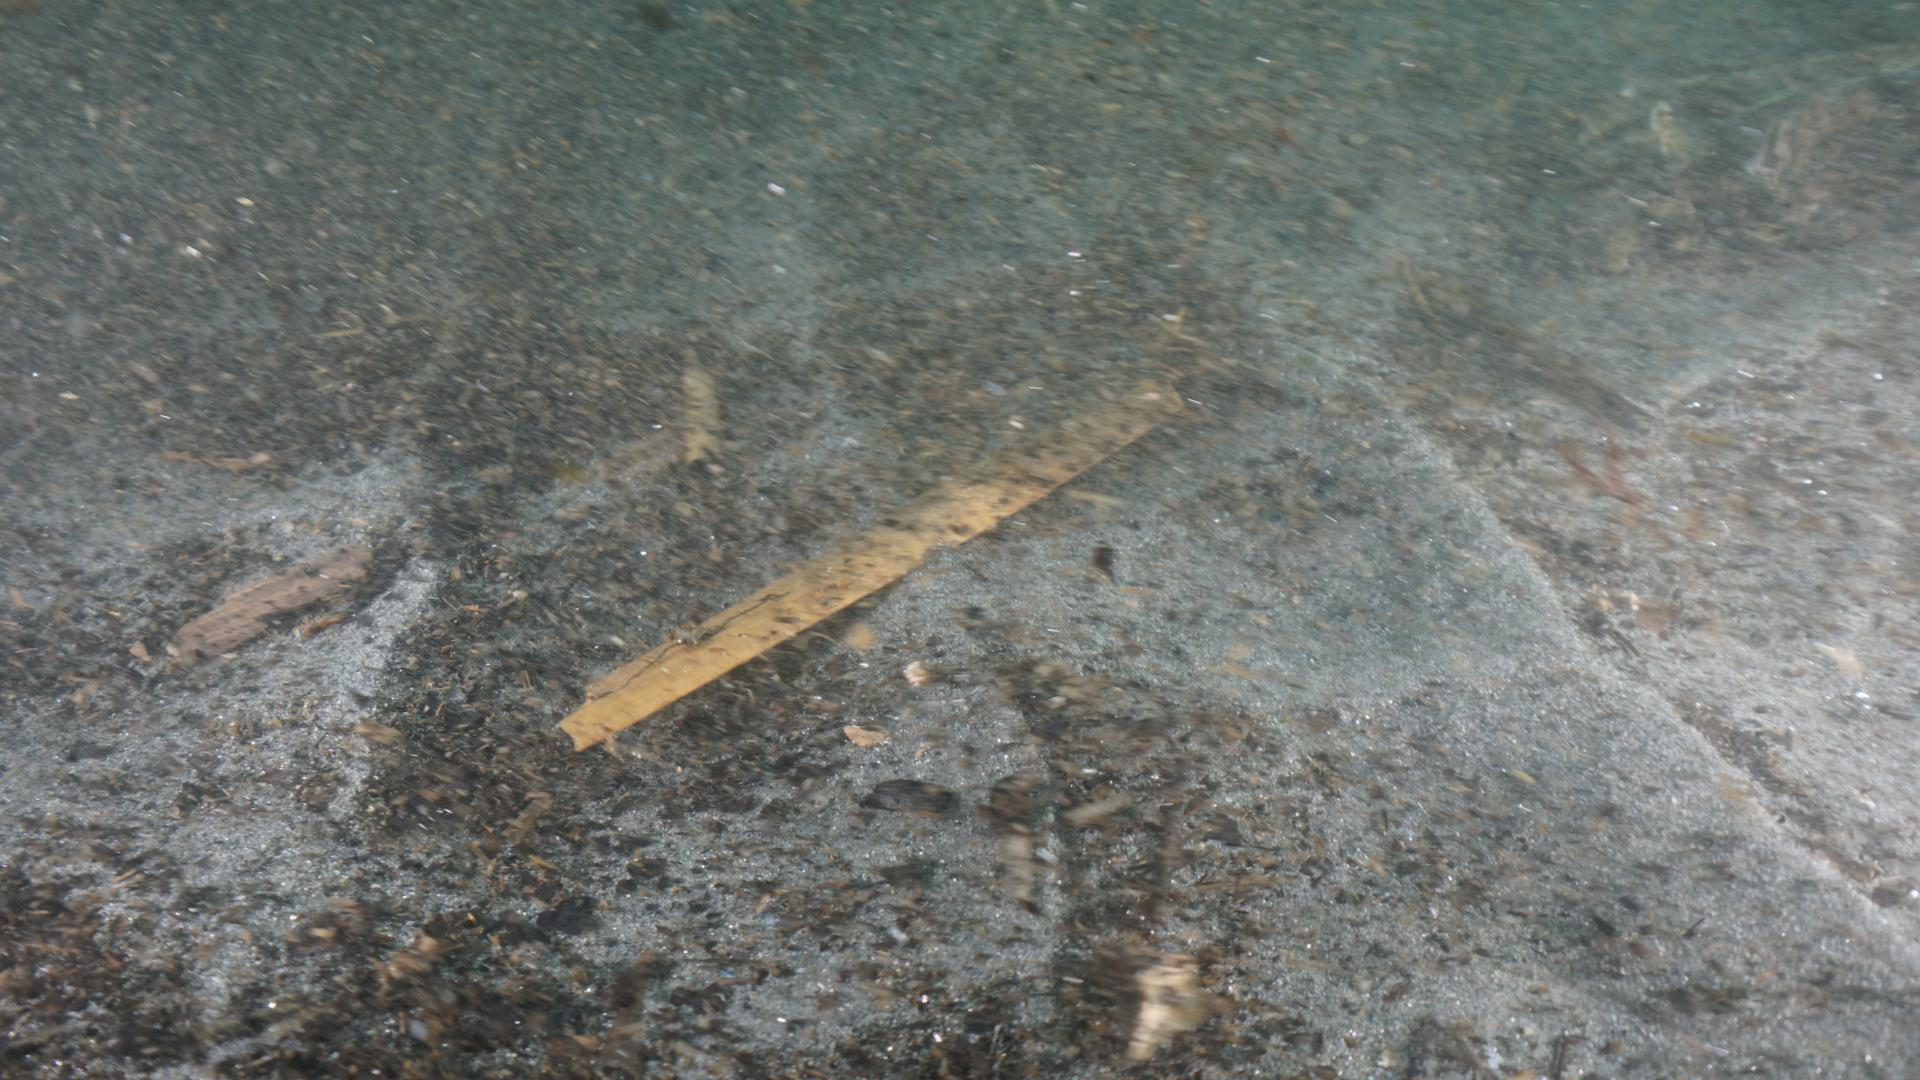wood: (553, 371, 1187, 752)
